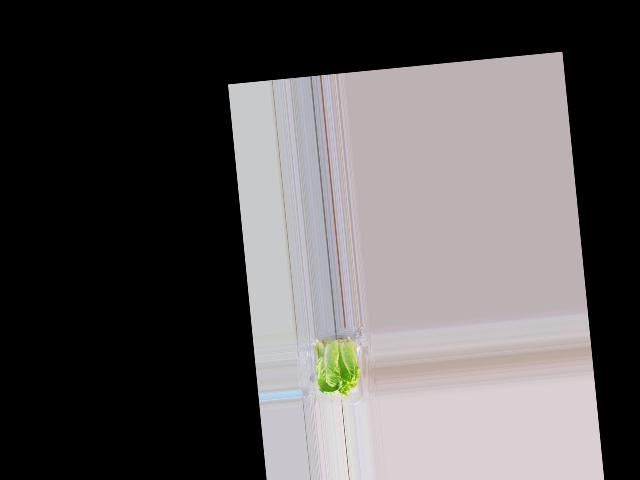lettuce: (313, 338, 361, 398)
